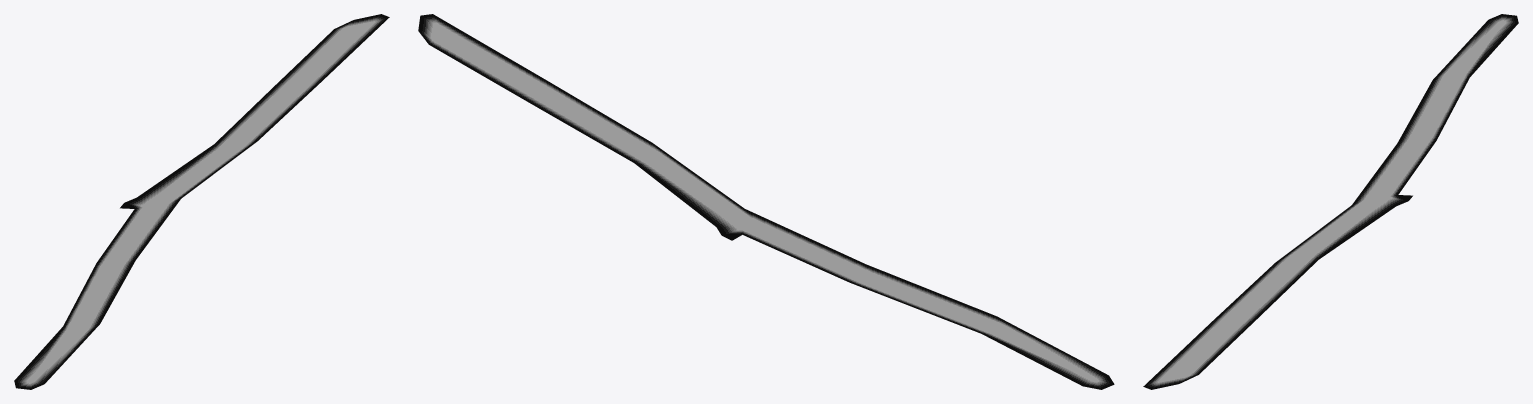
3 views of the same model, side by side, from view 1: azimuth 90°, elevation 25°; view 2: azimuth 150°, elevation 25°; view 3: azimuth 270°, elevation 25° (orthographic). The views are drawn at different scales.
Parts seen in each view (by area): view 1: Joint_0_Object_0; view 2: Joint_0_Object_0; view 3: Joint_0_Object_0.
Part boxes in pixels (bbox=[...]): Joint_0_Object_0: bbox=[14, 14, 389, 389]; Joint_0_Object_0: bbox=[418, 14, 1114, 389]; Joint_0_Object_0: bbox=[1143, 14, 1518, 389].
Bounding box in the file's own units: 1214 × 0 × 512.
